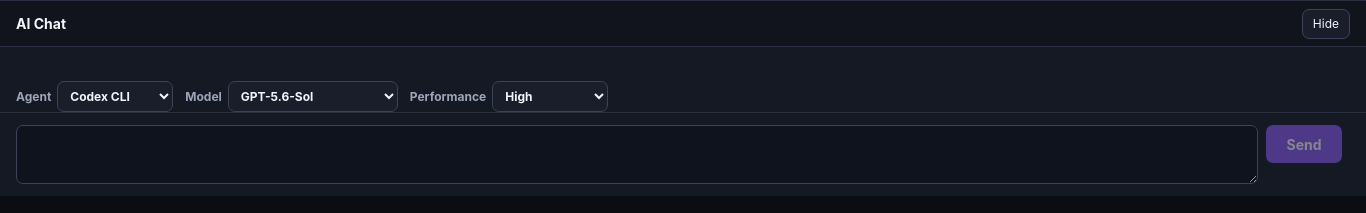
Test case: ChatPanel › 送信中は Send が disabled、Cancel が表示される
Type "wait" into the text box named "AI chat message" at (637, 154), box [16,125,1258,184]
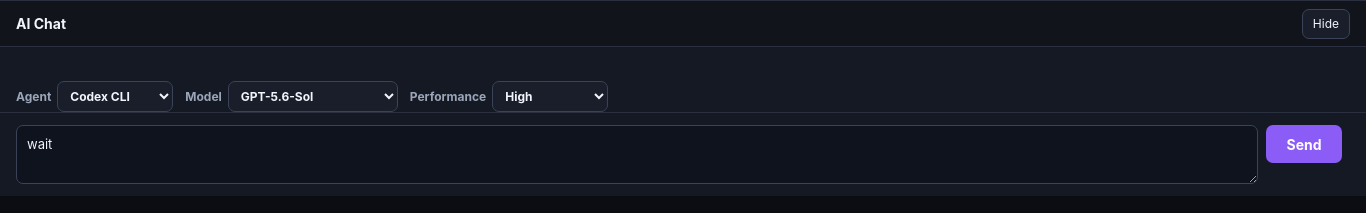
Click the button with aria-label "Send AI chat message" at (1304, 144), box [1266,125,1342,163]
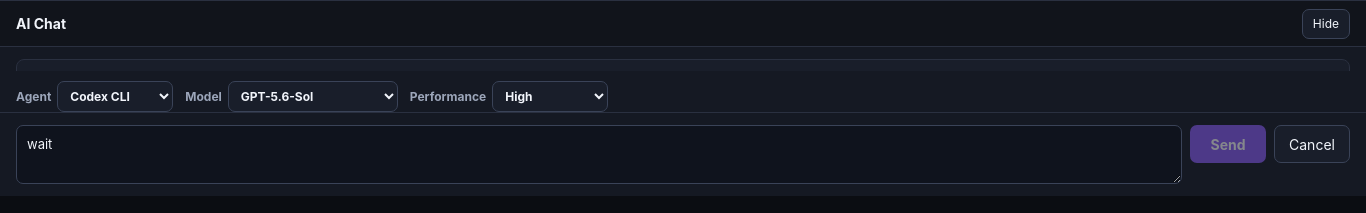
Check: the dropdown labelled "Agent" is enabled, box [57,81,173,112]
Check: the button with aria-label "Send AI chat message" is disabled, box [1190,125,1266,163]
Check: the button with aria-label "Cancel AI chat request" is shown, box [1274,125,1350,163]
